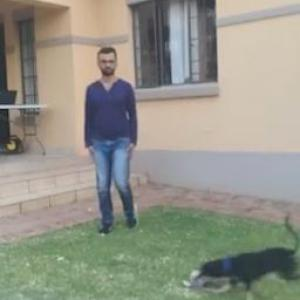follow: (81, 45, 143, 236)
